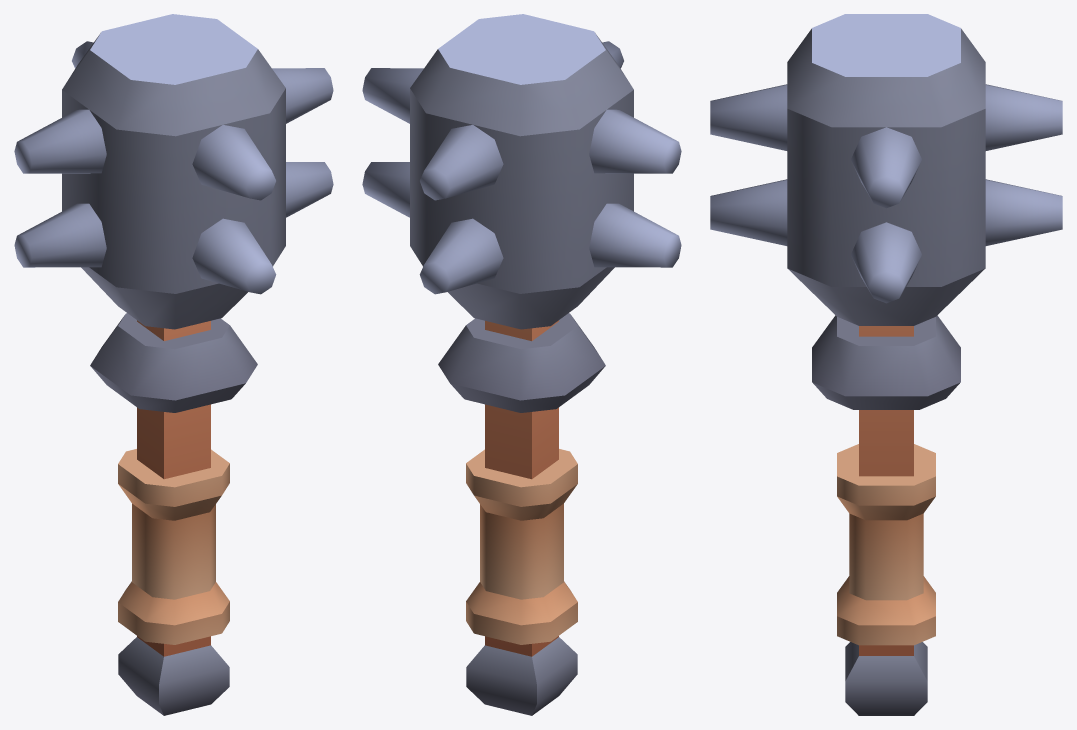
The model's file is club-a.fbx.
The picture shows the model from 3 angles, left to right: view 1: azimuth 30°, elevation 25°; view 2: azimuth 150°, elevation 25°; view 3: azimuth 270°, elevation 25°; orthographic projection.
Parts seen in each view (by area): view 1: club-a; view 2: club-a; view 3: club-a.
Boxes of the visible parts, <box> form: club-a: <box>14,14,333,715</box>; club-a: <box>362,14,681,715</box>; club-a: <box>710,14,1062,715</box>.
Bounding box in the file's own units: 160 × 330 × 160.
1 material, 1 textured.
